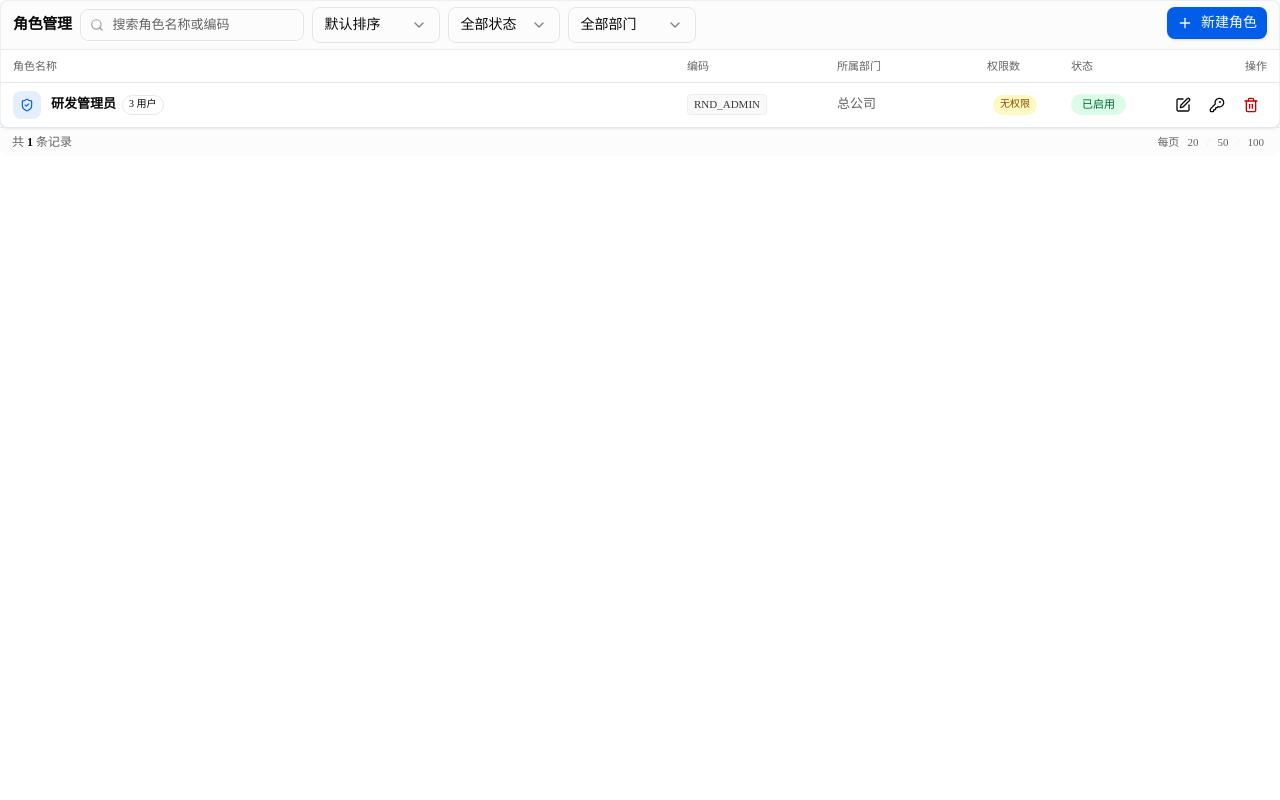
Test case: U-ROLES03/U-DEP05 删除确认展示影响面 › roles 删除确认展示受影响用户数
This screenshot has width=1280, height=800.
Step 1. Click the button named "删除角色 研发管理员" → (1251, 104), box [1235,88,1267,120]
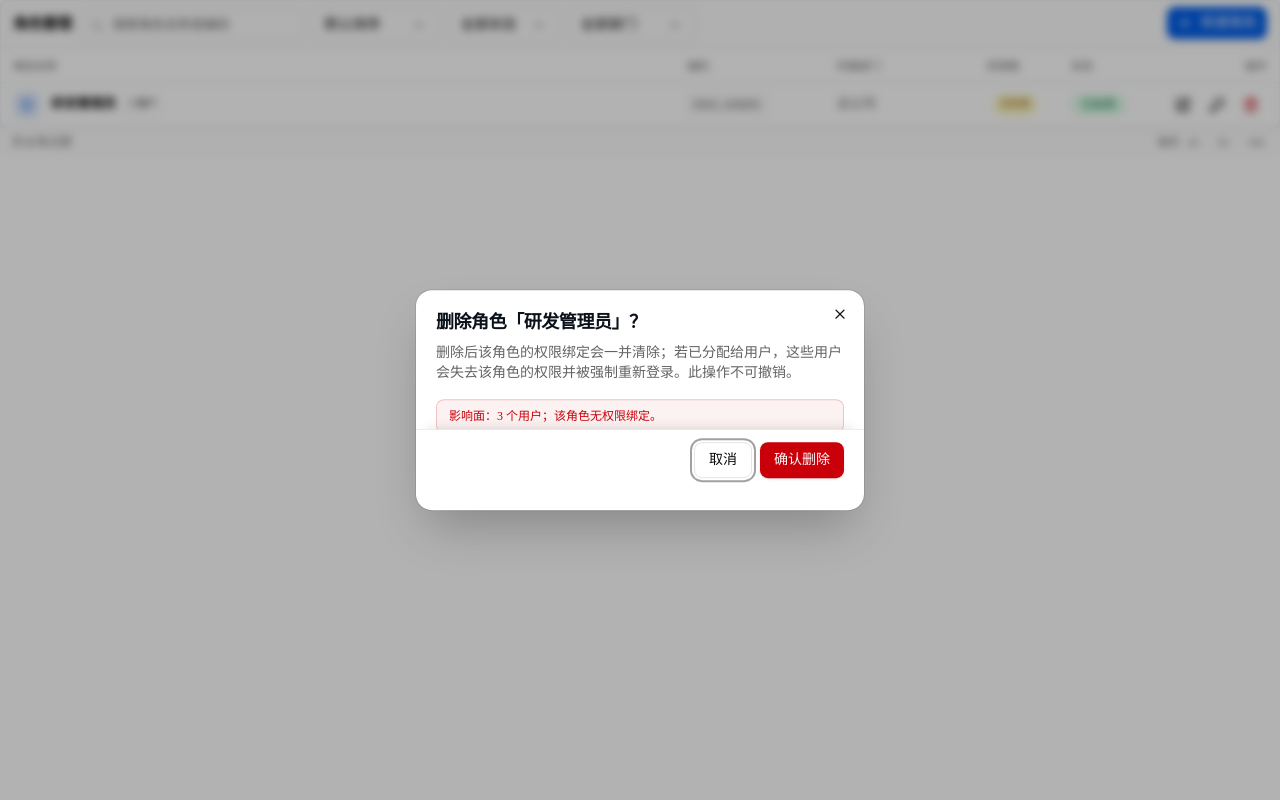
Now the text "影响面：3 个用户；该角色无权限绑定。" is shown, box [436,399,844,433]
Now the text "删除后该角色的权限绑定会一并清除；若已分配给用户，这些用户会失去该角色的权限并被强制重新登录。此操作不可撤销。" is shown, box [436,343,844,383]
